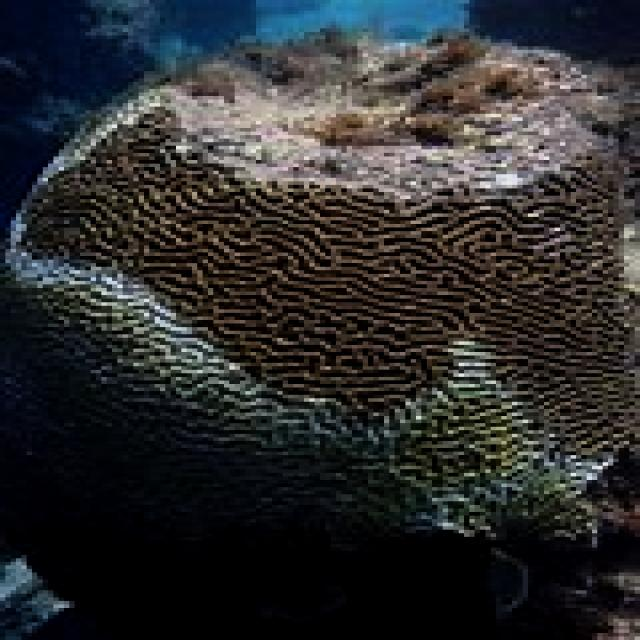Coral: (0, 18, 640, 563)
